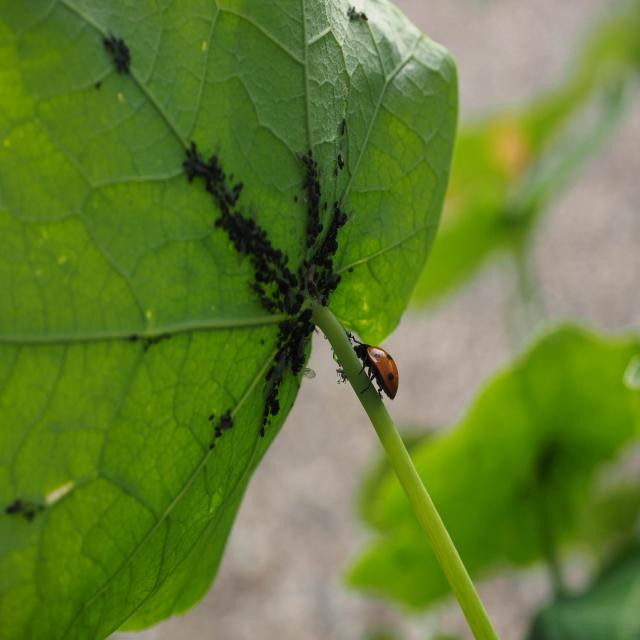Aphid-Grouped-: (178, 138, 308, 314), (266, 208, 344, 396)
